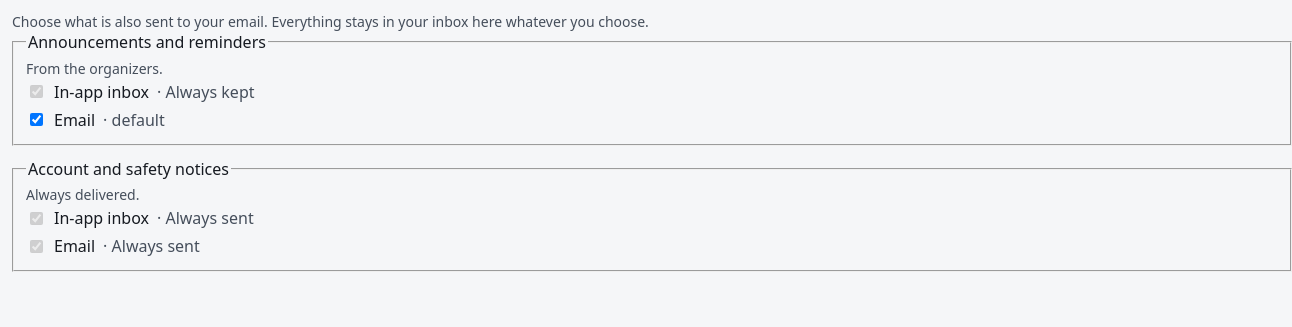
NotificationPreferences › saves a choice at once and shows what the server answered
Click the checkbox labelled "Email · default". click: (36, 120)
box: top-left (30, 113), bottom-right (43, 126)
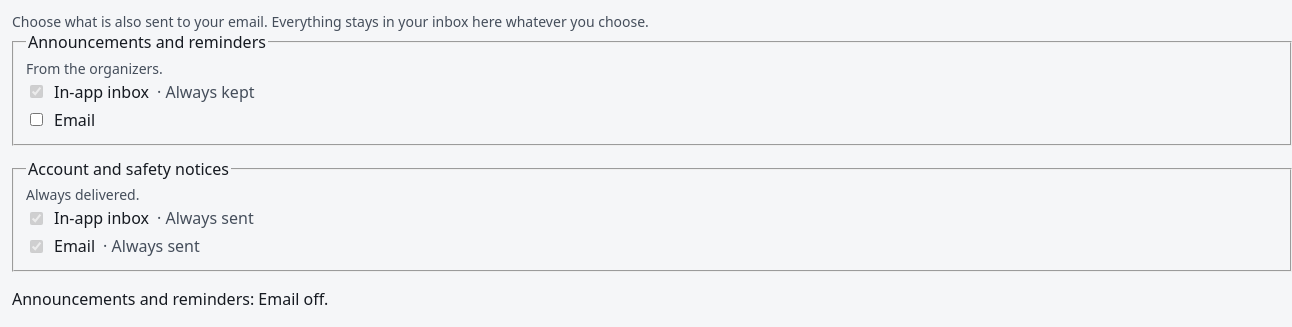
Expected: the checkbox labelled "Email" is not checked, top-left (30, 113), bottom-right (43, 126)
Expected: the message "Announcements and reminders: Email off." is shown, top-left (12, 288), bottom-right (328, 310)
Expected: the text "· default" is gone
